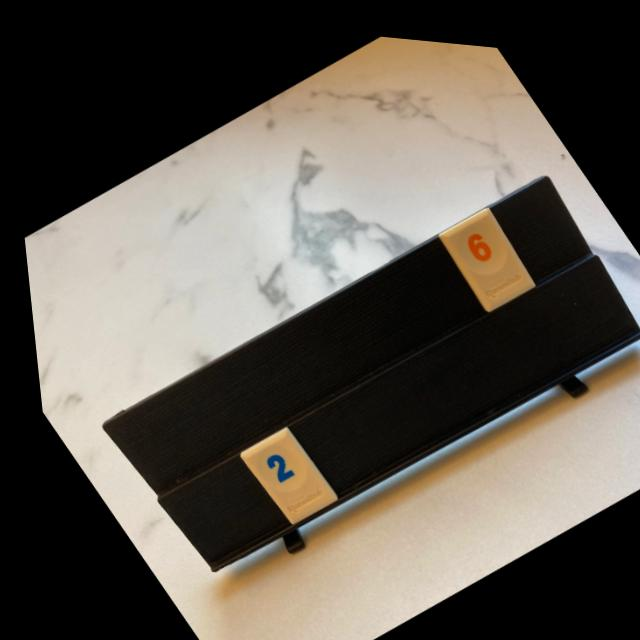blue_2: (230, 422, 327, 518)
orange_6: (434, 198, 530, 302)
